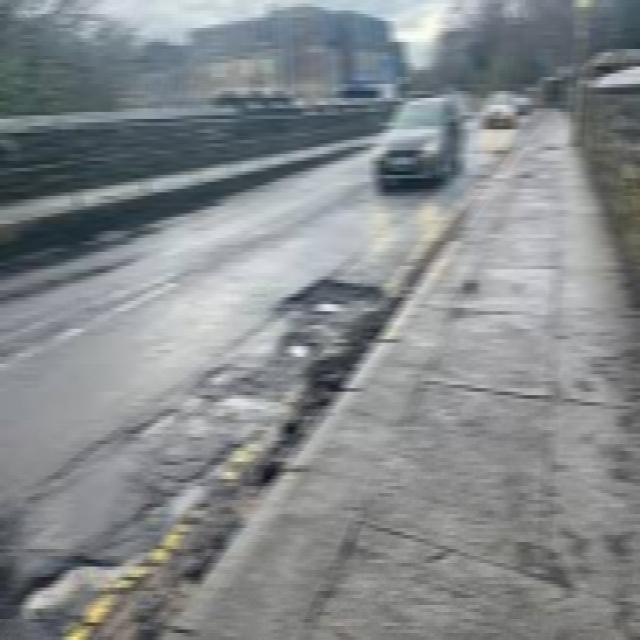Pothole: (152, 376, 346, 514), (253, 270, 396, 378), (0, 538, 119, 628)
